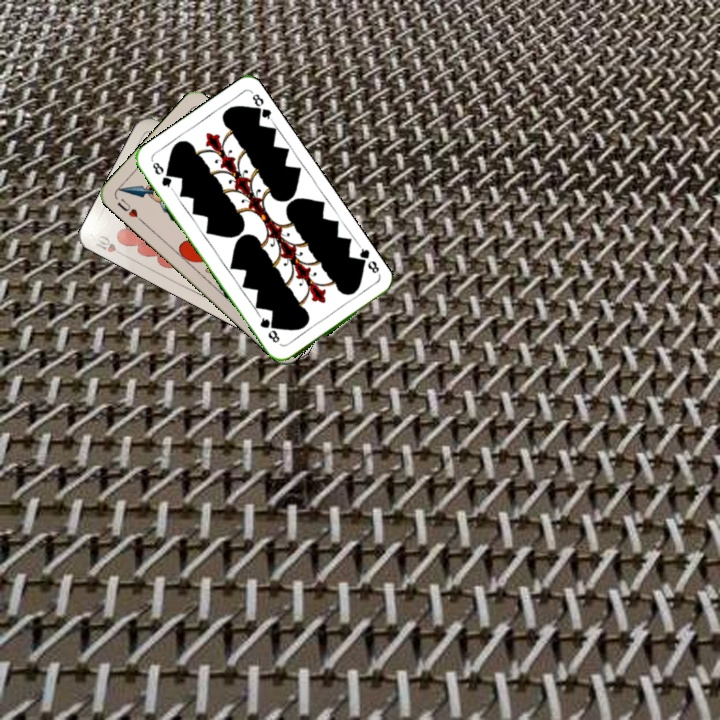G8: (352, 243, 383, 279), (148, 158, 176, 193)
H10: (92, 231, 129, 259)
HU: (113, 194, 145, 225)
